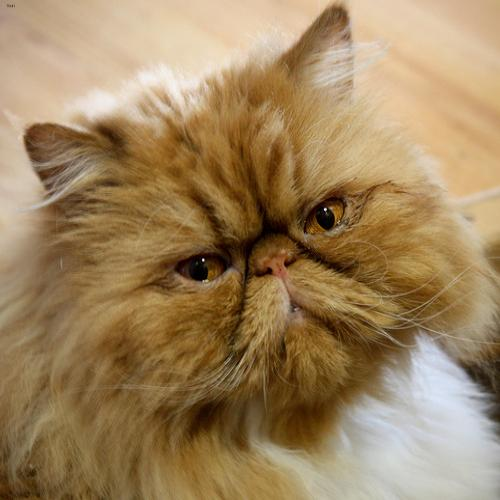persian: (1, 1, 489, 462)
